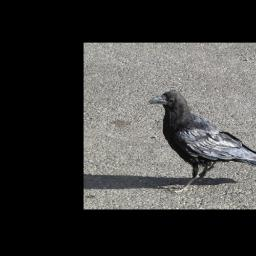Crow: (147, 88, 256, 193)
